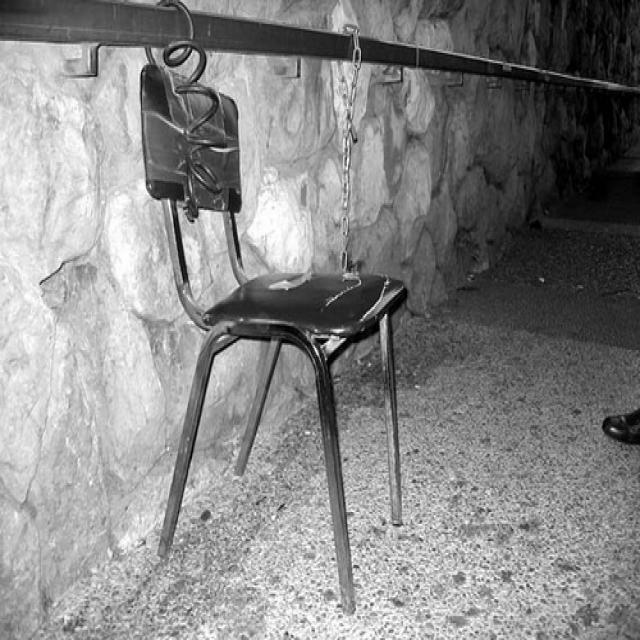chair: (139, 66, 410, 614)
